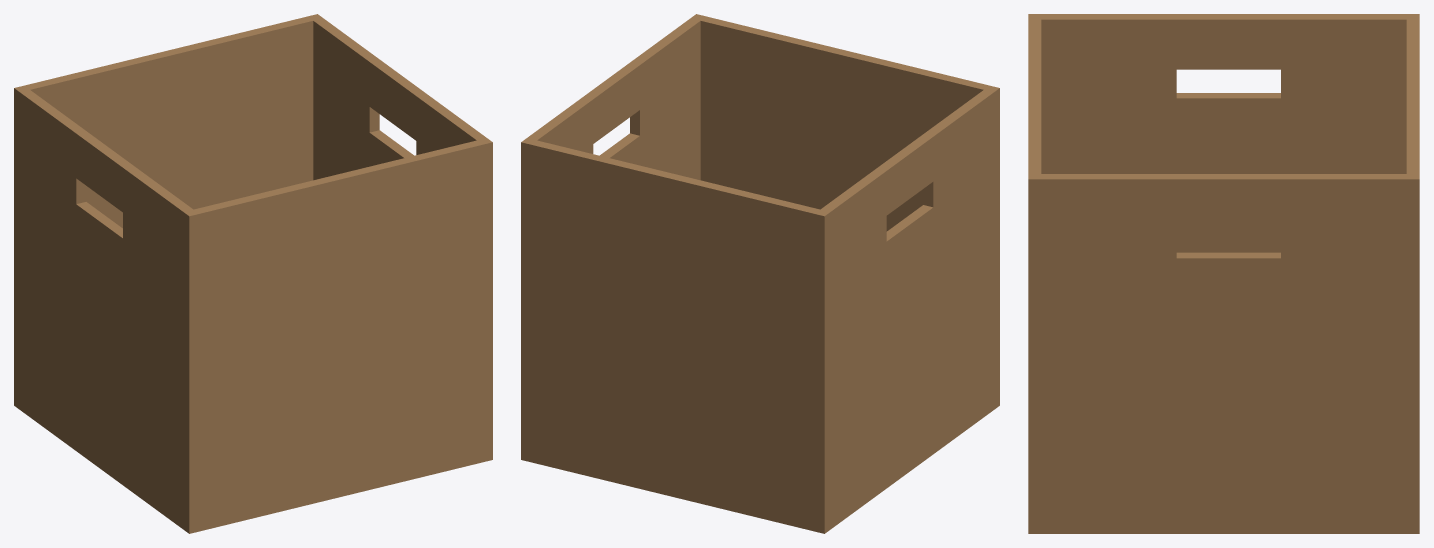
Rendered from Flyttekasse.fbx.
3 views of the same model, side by side, from view 1: azimuth 30°, elevation 25°; view 2: azimuth 150°, elevation 25°; view 3: azimuth 270°, elevation 25° (orthographic). The views are drawn at different scales.
Parts seen in each view (by area): view 1: Flyttekasse; view 2: Flyttekasse; view 3: Flyttekasse.
Part boxes in pixels (x1,y1,x2,y2): Flyttekasse: (14,14,492,533); Flyttekasse: (521,14,999,533); Flyttekasse: (1028,14,1419,533).
Size of the model in its own units: 354 by 354 by 354.
